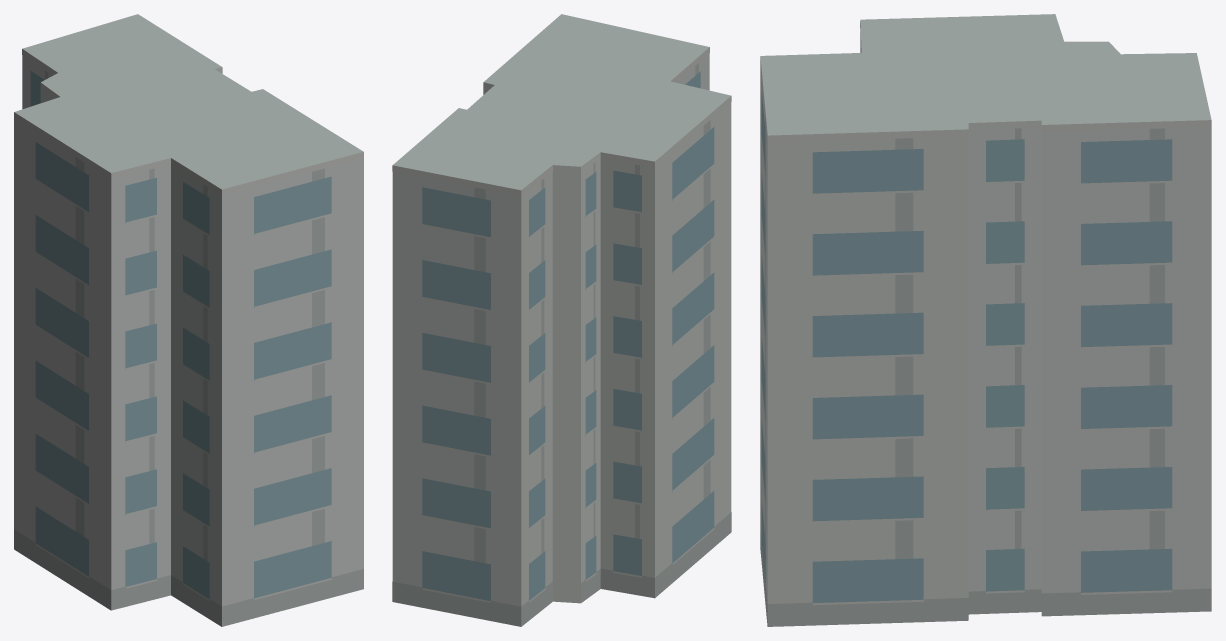
Rendered from survey-upis-32570017.glb.
The picture shows the model from 3 angles, left to right: view 1: azimuth 30°, elevation 25°; view 2: azimuth 150°, elevation 25°; view 3: azimuth 270°, elevation 25°; orthographic projection. The views are drawn at different scales.
Visible parts, largest first — view 1: survey-upis-32570017.tmp; view 2: survey-upis-32570017.tmp; view 3: survey-upis-32570017.tmp.
Boxes of the visible parts, left/top/right/bottom form: survey-upis-32570017.tmp: left=14, top=14, right=363, bottom=626; survey-upis-32570017.tmp: left=392, top=14, right=731, bottom=626; survey-upis-32570017.tmp: left=760, top=14, right=1211, bottom=626.
Bounding box in the file's own units: 9.08 × 17.1 × 14.24.
